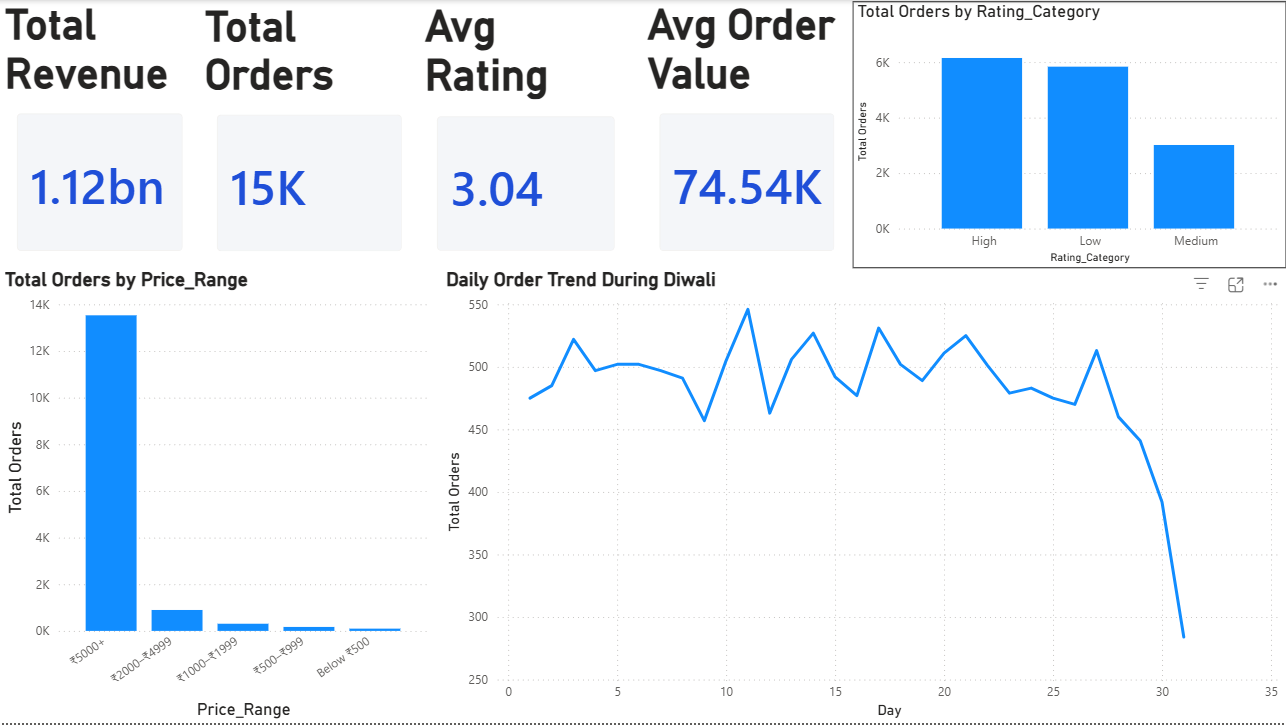

The page's visual inventory and layout, read from the dashboard file:
{"tool":"powerbi","page":{"name":"Page 1","canvas":[1280,720],"ordinal":0},"visuals":[{"type":"cardVisual","title":"Total Orders","fields":{"Data":["amazon_analysis amazon_sales_2025_inr.Total Orders"]},"box":[199,1.2,218.9,266.2],"z":0},{"type":"lineChart","title":"Daily Order Trend During Diwali","fields":{"Y":["amazon_analysis amazon_sales_2025_inr.Total Orders"],"Category":["amazon_analysis amazon_sales_2025_inr.Date.Variation.Date Hierarchy.Day"]},"box":[439.1,267.5,840.9,452.8],"z":2000},{"type":"clusteredColumnChart","fields":{"Category":["amazon_analysis amazon_sales_2025_inr.Price_Range"],"Y":["amazon_analysis amazon_sales_2025_inr.Total Orders"]},"box":[0,267.5,431.7,452.8],"z":3000},{"type":"clusteredColumnChart","fields":{"Category":["amazon_analysis amazon_sales_2025_inr.Rating_Category"],"Y":["amazon_analysis amazon_sales_2025_inr.Total Orders"]},"box":[848.4,1.2,431.7,266.2],"z":5000},{"type":"cardVisual","title":"Avg Order Value","fields":{"Data":["amazon_analysis amazon_sales_2025_inr.Avg Order Value"]},"box":[639.4,0,209,267.5],"z":6000},{"type":"cardVisual","title":"Total Revenue","fields":{"Data":["amazon_analysis amazon_sales_2025_inr.Total Revenue"]},"box":[0,0,199,267.5],"z":7000},{"type":"cardVisual","title":"Avg Rating","fields":{"Data":["amazon_analysis amazon_sales_2025_inr.Avg Rating"]},"box":[418,1.2,211.5,266.2],"z":8000}]}

Visuals, with their boxes in screenshot pixels (x1, y1, x2, y2), scaled from the page's 1280x720 canvas onto the 1286x725 screenshot:
"Total Orders" cardVisual: 200,1,420,269
"Daily Order Trend During Diwali" lineChart: 441,269,1285,724
clusteredColumnChart - amazon_analysis amazon_sales_2025_inr.Price_Range x amazon_analysis amazon_sales_2025_inr.Total Orders: 0,269,434,724
clusteredColumnChart - amazon_analysis amazon_sales_2025_inr.Rating_Category x amazon_analysis amazon_sales_2025_inr.Total Orders: 852,1,1285,269
"Avg Order Value" cardVisual: 642,0,852,269
"Total Revenue" cardVisual: 0,0,200,269
"Avg Rating" cardVisual: 420,1,632,269
